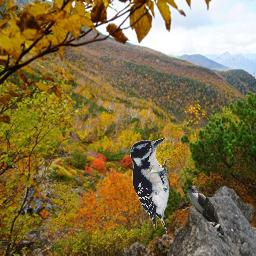Cuckoo: (184, 185, 229, 245)
Woodpecker: (130, 138, 172, 234)
